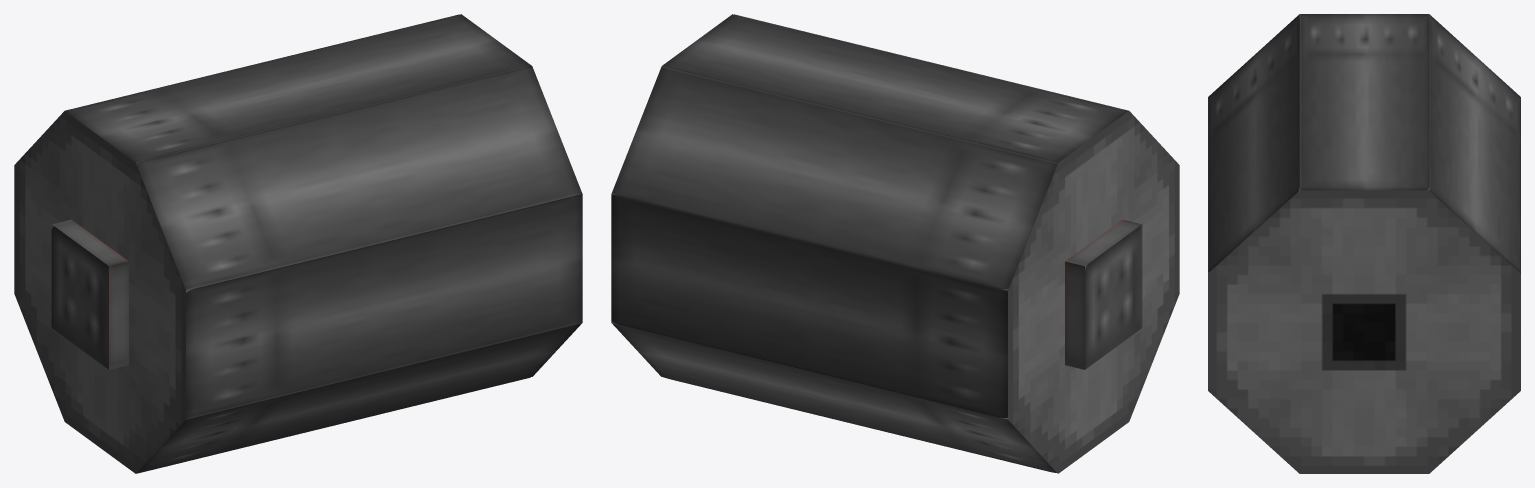
The model's file is beamhouse_barrel.obj.
The picture shows the model from 3 angles, left to right: view 1: azimuth 30°, elevation 25°; view 2: azimuth 150°, elevation 25°; view 3: azimuth 270°, elevation 25°; orthographic projection. The views are drawn at different scales.
Visible parts, largest first — view 1: barrel; view 2: barrel; view 3: barrel.
Boxes of the visible parts, x1,y1,x2,y2 form: barrel: [14, 14, 582, 473]; barrel: [611, 14, 1179, 473]; barrel: [1208, 14, 1520, 473].
Size of the model in its own units: 2.63 by 1.88 by 1.88.
